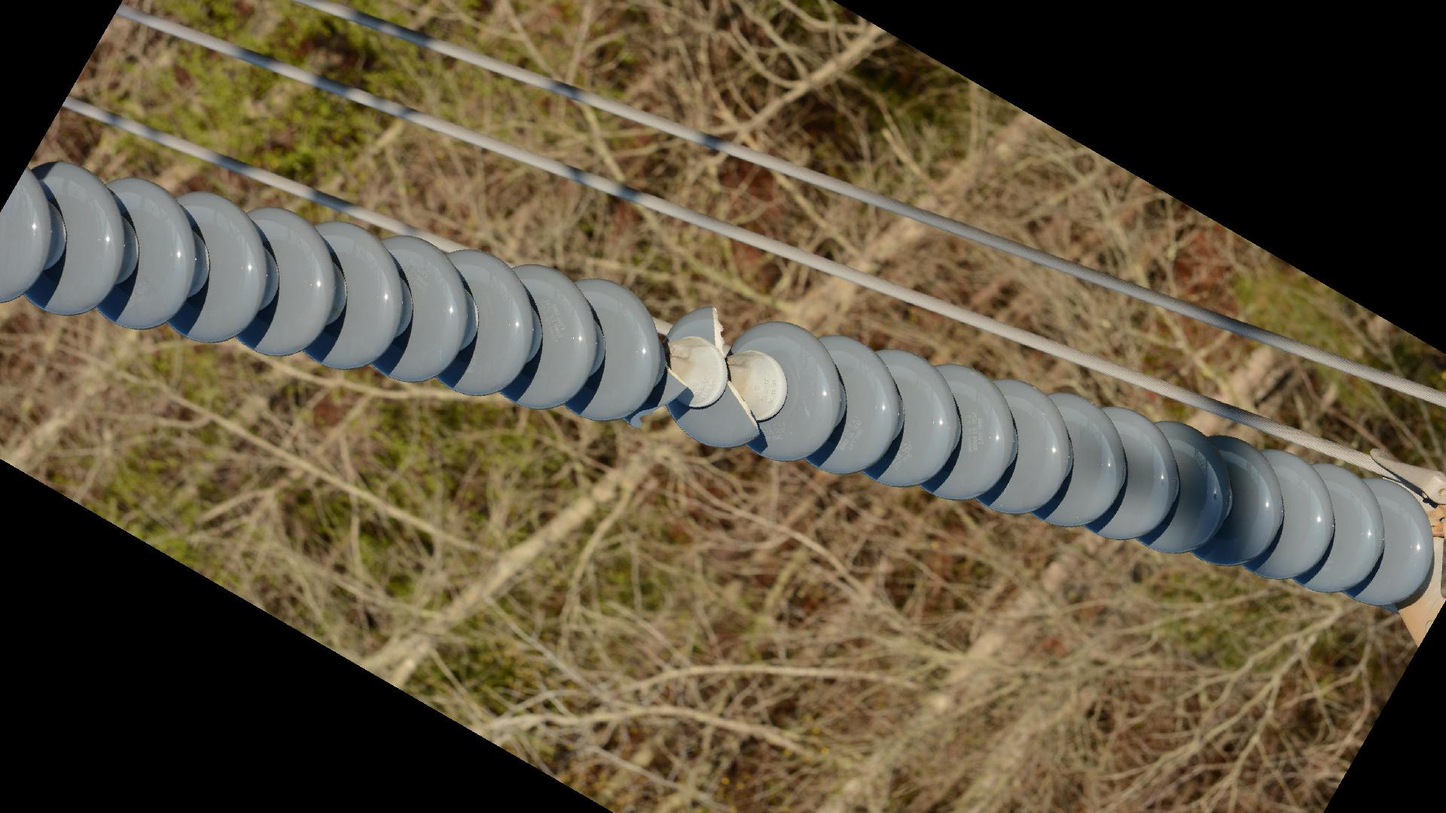insulator: (1, 154, 1436, 613)
insulator_breakage: (697, 301, 770, 446), (625, 361, 694, 435)
